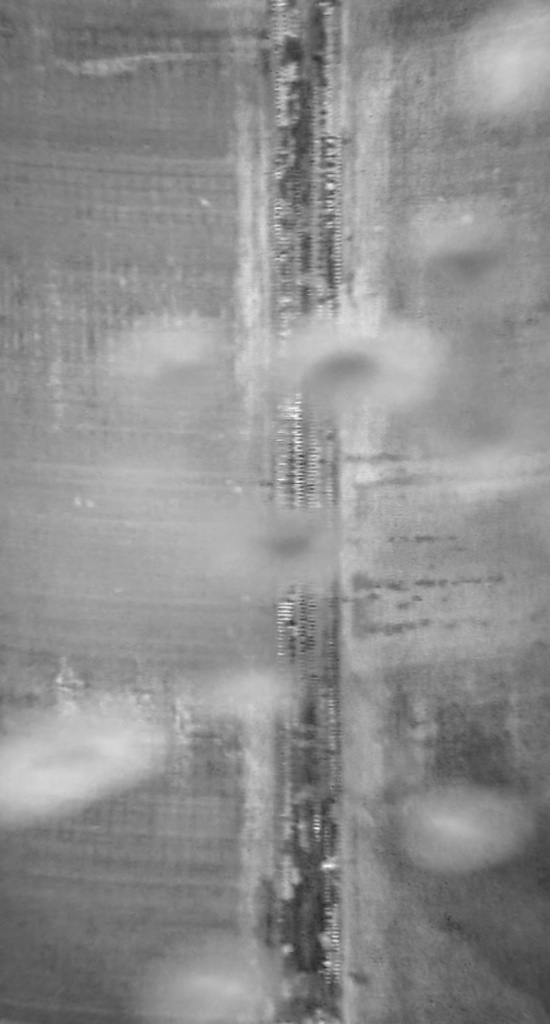splice: (261, 3, 358, 1023)
